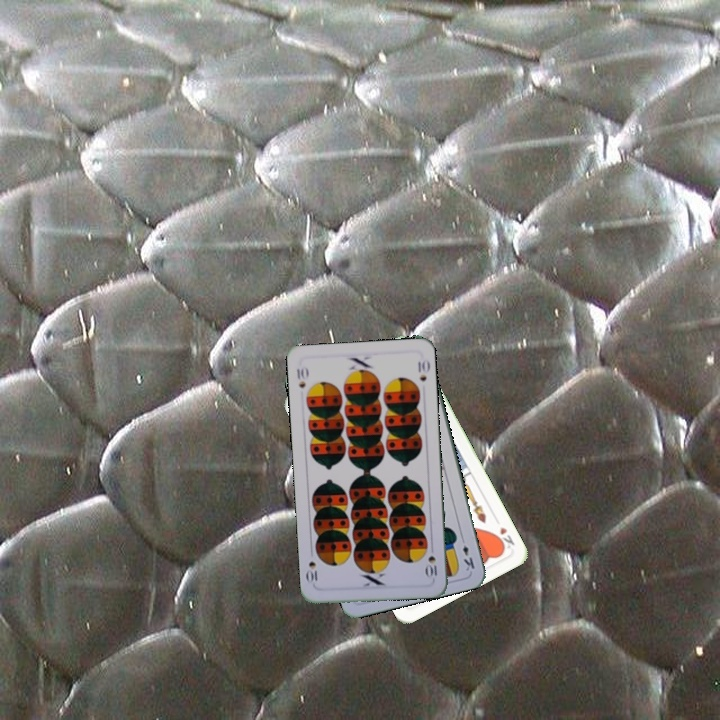EK: (457, 533, 477, 573)
HK: (492, 523, 517, 552)
S10: (423, 541, 439, 582), (292, 364, 308, 391)
